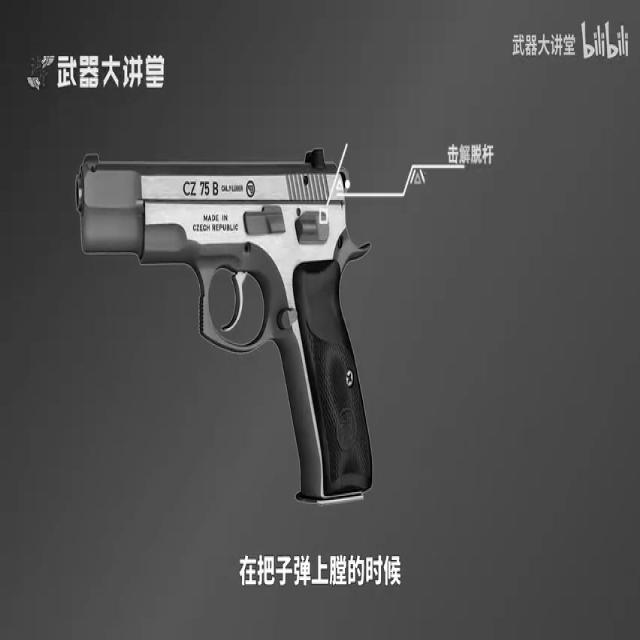Hand-Gun: (0, 0, 404, 555)
